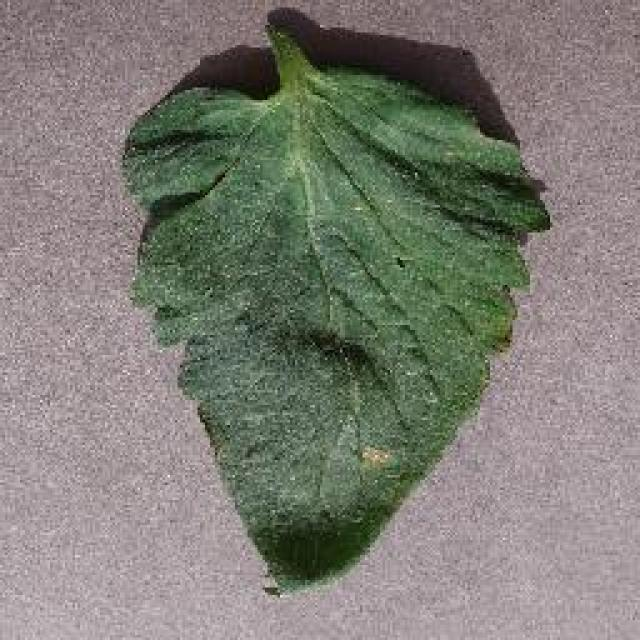Tomato___Target_Spot: (122, 25, 548, 585)
